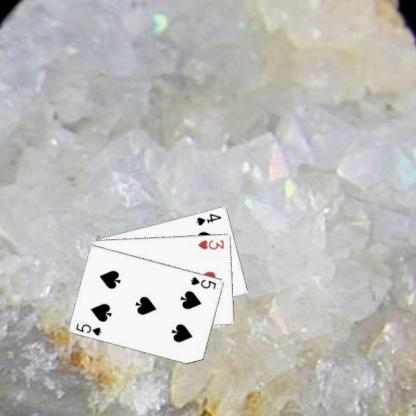3H: (196, 237, 225, 251)
4S: (194, 210, 223, 226)
5S: (73, 320, 103, 337), (188, 274, 218, 290)
